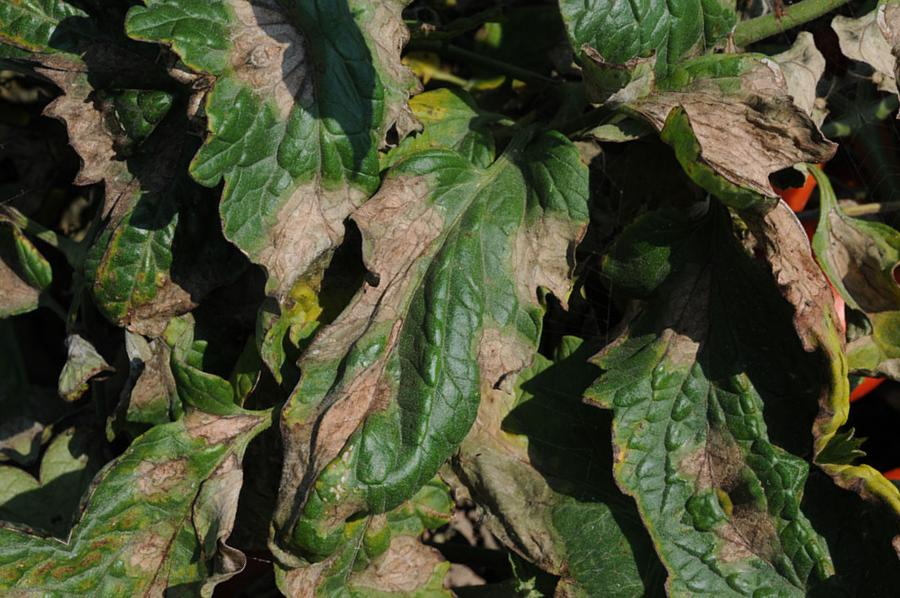Tomato leaf late blight: (152, 93, 711, 595), (151, 0, 516, 330), (524, 211, 849, 545), (565, 0, 900, 318), (32, 364, 380, 598), (494, 0, 811, 116)
